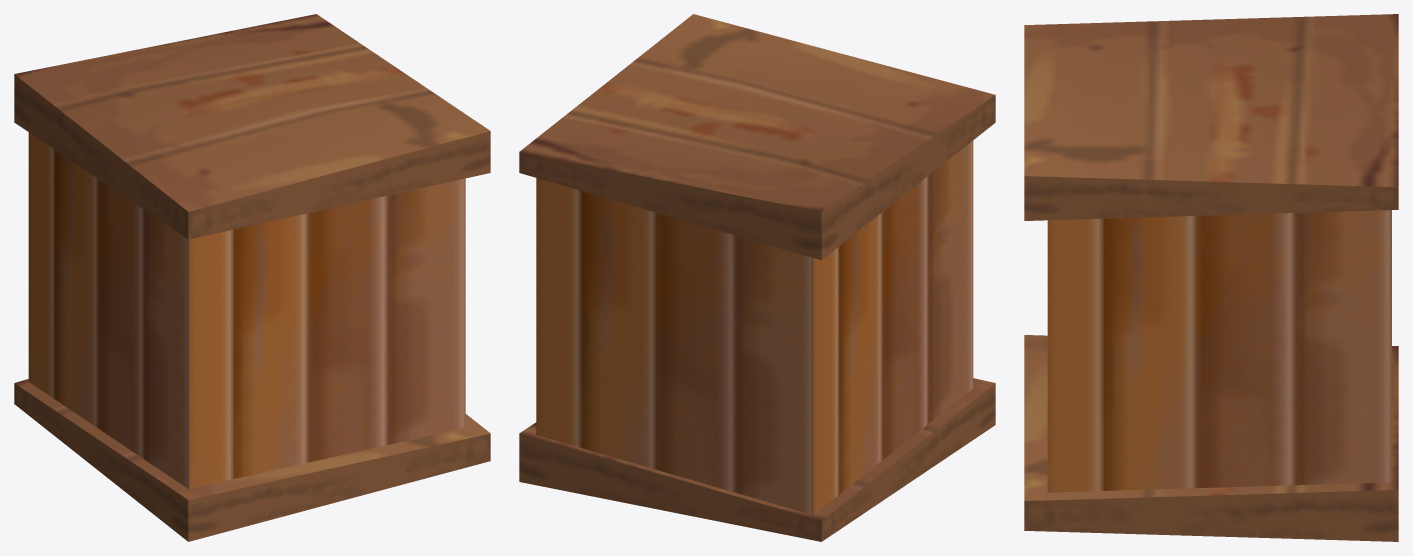
Rendered from caisse.FBX.
3 renders of one model, left to right at view 1: azimuth 30°, elevation 25°; view 2: azimuth 150°, elevation 25°; view 3: azimuth 270°, elevation 25°, orthographic. The views are drawn at different scales.
Parts seen in each view (by area): view 1: Box012; view 2: Box012; view 3: Box012.
Part boxes in pixels (x1=…): Box012: x1=14, y1=14, x2=490, y2=541; Box012: x1=519, y1=14, x2=995, y2=541; Box012: x1=1024, y1=14, x2=1398, y2=541.
Bounding box in the file's own units: 82.84 × 90 × 82.66.
Materials: 1 (1 with a texture image).
